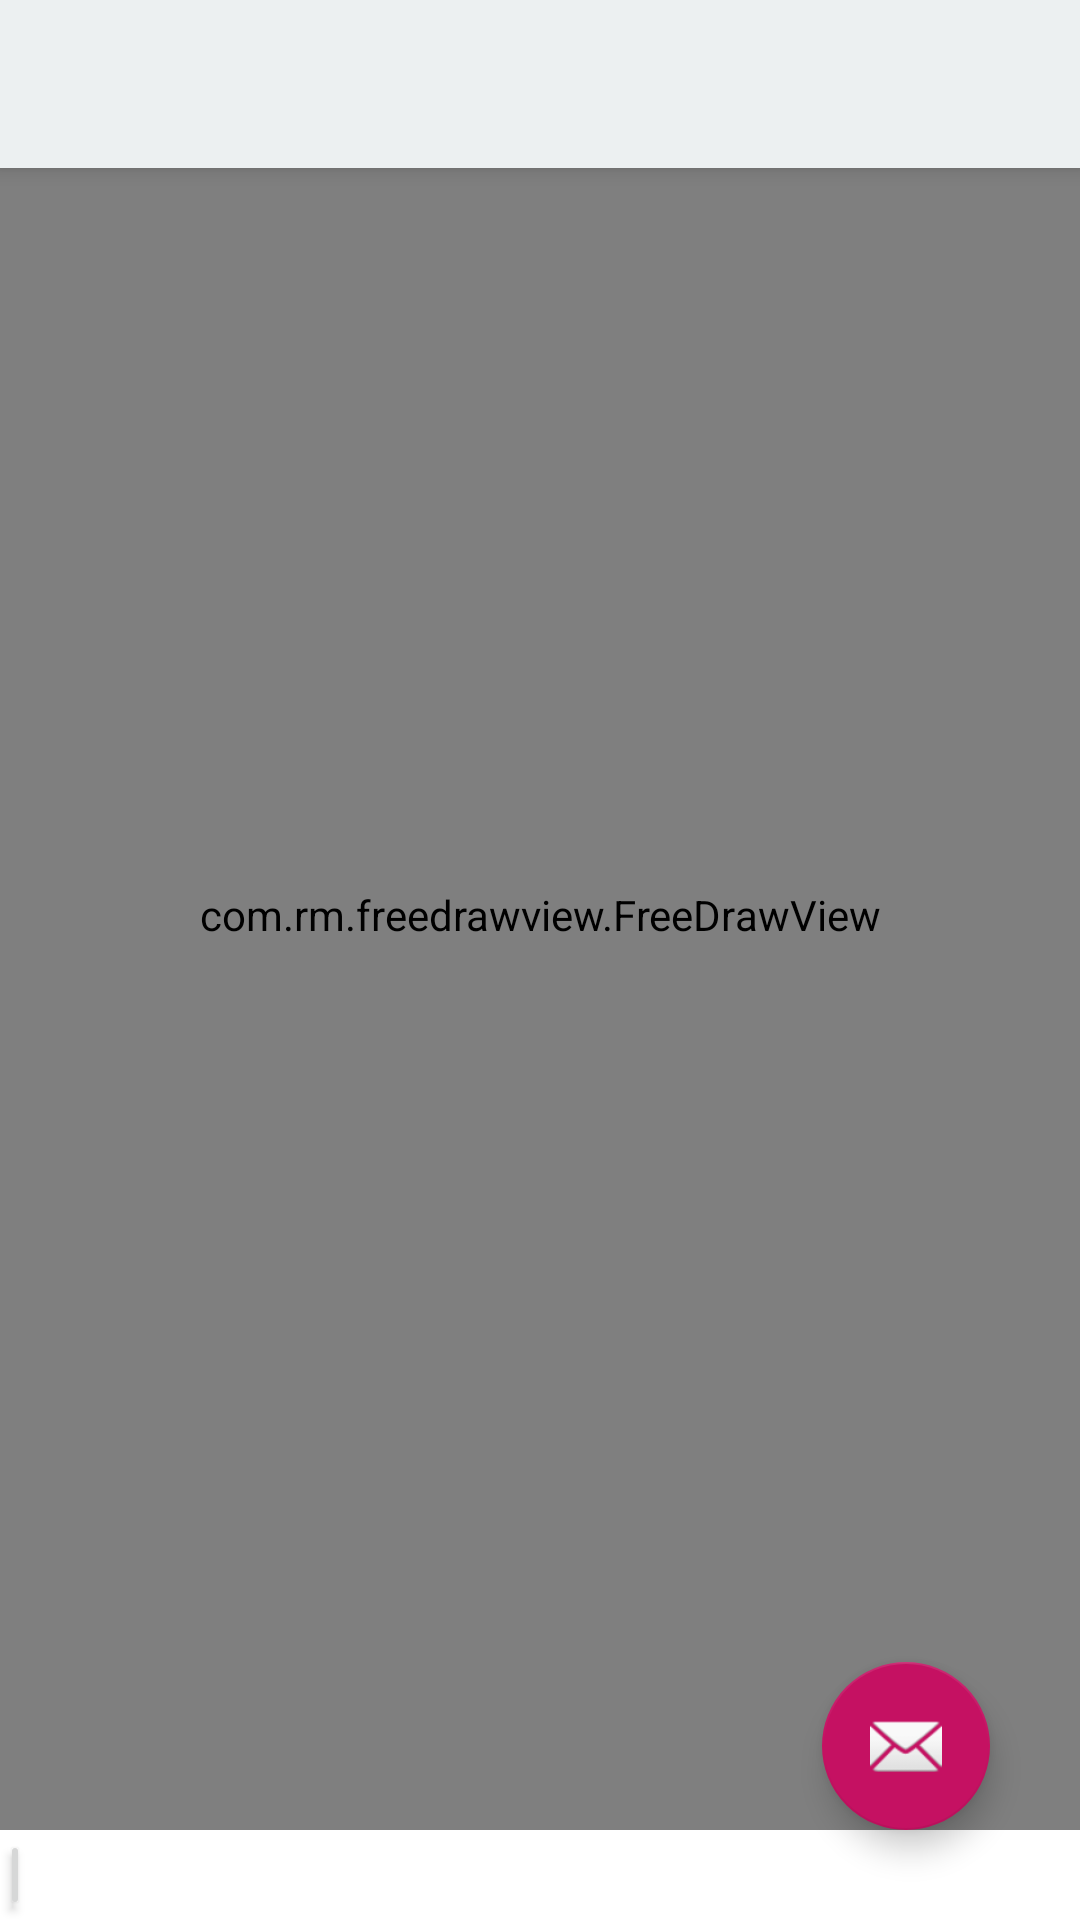

Locate icon controls on the screen. Image size 1080 × 1920, boxes as (x1, y1, x2, y2).
email: (822, 1662, 990, 1830)
